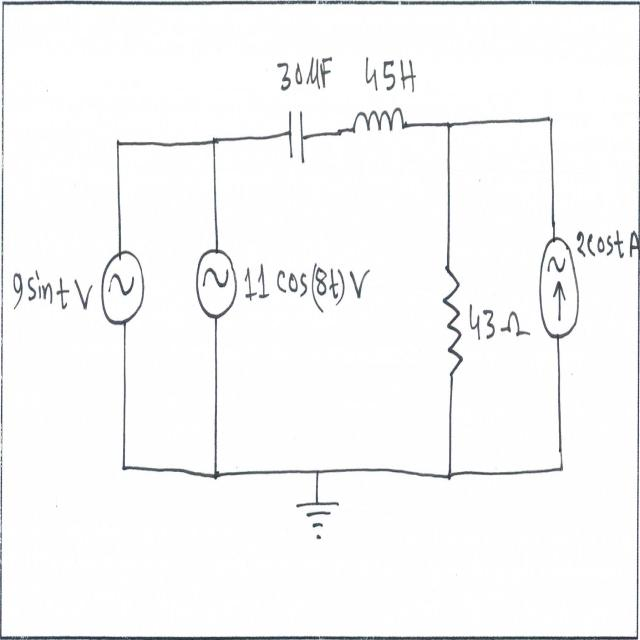ac_current: (98, 235, 152, 332), (192, 238, 241, 326)
capacitor: (285, 100, 308, 178)
current_source: (535, 231, 580, 350)
ground: (292, 488, 345, 550)
inductor: (343, 98, 412, 154)
resistor: (439, 258, 466, 389)
